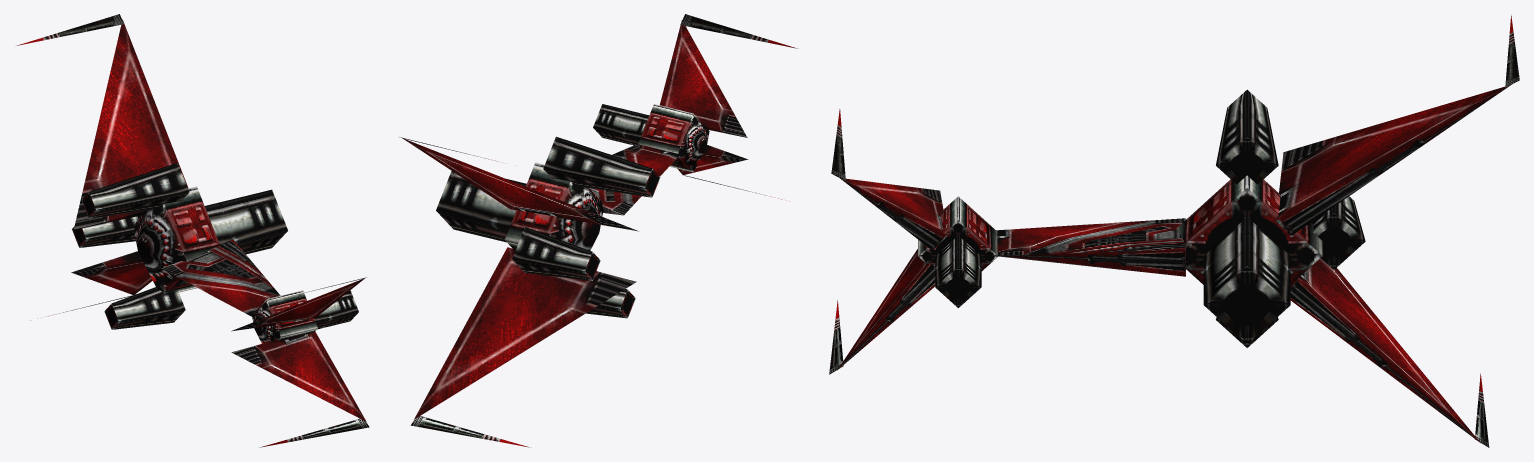
File: harvest05.obj
The picture shows the model from 3 angles, left to right: view 1: azimuth 30°, elevation 25°; view 2: azimuth 150°, elevation 25°; view 3: azimuth 270°, elevation 25°; orthographic projection. The views are drawn at different scales.
Parts seen in each view (by area): view 1: PU830.001; view 2: PU830.001; view 3: PU830.001.
Boxes of the visible parts, x1,y1,x2,y2 form: PU830.001: (16,14,369,447); PU830.001: (399,14,798,447); PU830.001: (829,15,1519,447).
Bounding box in the file's own units: 79.7 × 113 × 192.
Materials: 1 (1 with a texture image).
